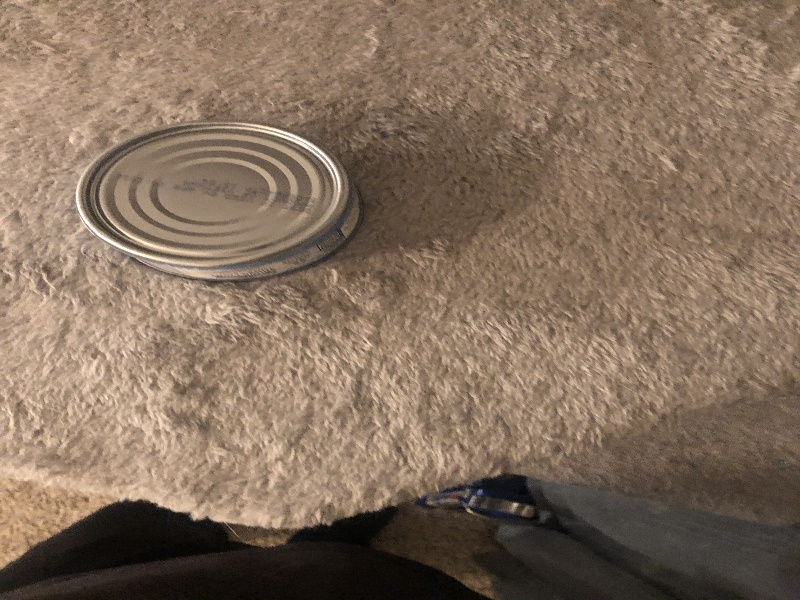metal: (66, 113, 369, 282)
